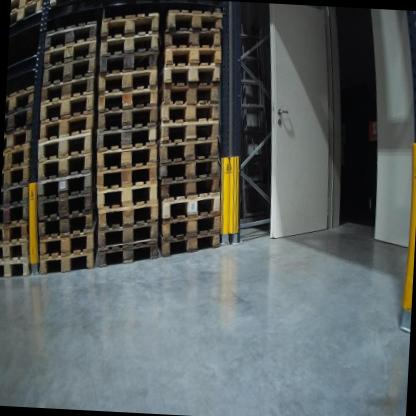pallet: (154, 111, 223, 167), (154, 205, 225, 244), (33, 123, 97, 166), (92, 136, 158, 177), (93, 175, 160, 215), (157, 93, 222, 133), (154, 226, 225, 262), (34, 182, 96, 223), (95, 217, 160, 256), (94, 156, 159, 195), (95, 100, 160, 138), (36, 150, 96, 191), (33, 201, 93, 242), (161, 166, 224, 205), (40, 17, 101, 57), (38, 218, 99, 258), (37, 243, 99, 282), (95, 236, 160, 273), (36, 164, 95, 204), (95, 119, 157, 157), (95, 27, 162, 62), (158, 185, 226, 219), (96, 46, 162, 81), (37, 86, 96, 125), (43, 49, 98, 89), (96, 196, 160, 230), (99, 9, 163, 43), (98, 64, 162, 97), (96, 80, 157, 114), (161, 58, 226, 88), (161, 76, 221, 107), (160, 40, 225, 67), (40, 72, 96, 103), (164, 24, 225, 52), (162, 6, 227, 32), (155, 153, 222, 178), (0, 196, 30, 248), (37, 111, 96, 136), (40, 38, 96, 64), (5, 83, 38, 122), (9, 0, 46, 32), (5, 103, 35, 139), (2, 142, 36, 173), (0, 184, 31, 217), (2, 162, 31, 192), (0, 237, 30, 266), (0, 258, 33, 280), (4, 127, 33, 151), (11, 0, 44, 15)
